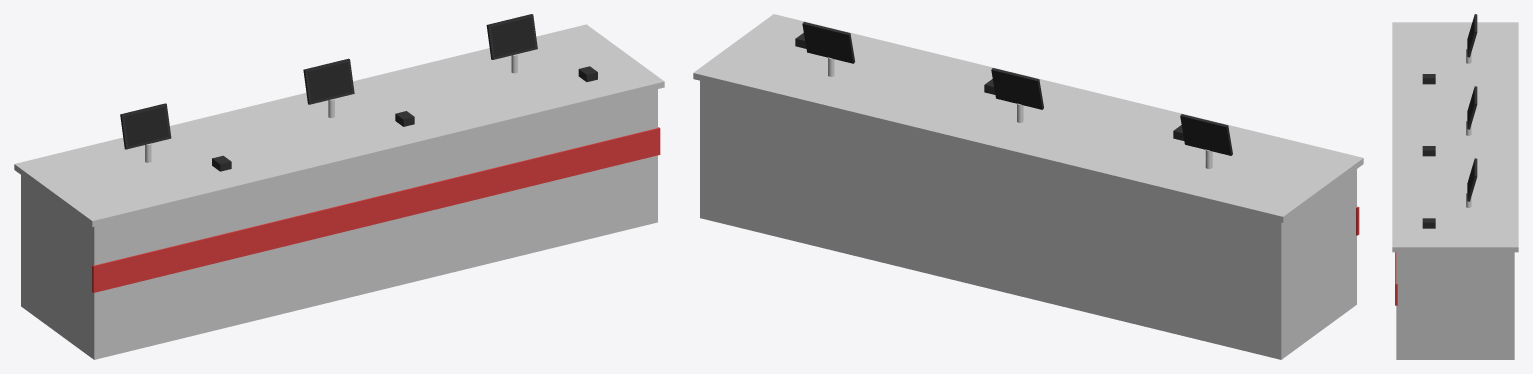
The model's file is nintendo_checkout.glb.
The picture shows the model from 3 angles, left to right: view 1: azimuth 30°, elevation 25°; view 2: azimuth 150°, elevation 25°; view 3: azimuth 270°, elevation 25°; orthographic projection. The views are drawn at different scales.
Parts seen in each view (by area): view 1: nintendo_checkout, screen.002, screen, screen.001; view 2: nintendo_checkout; view 3: nintendo_checkout, screen.001, screen.002, screen.
Boxes of the visible parts, bbox=[...] form: nintendo_checkout: bbox=[14, 14, 664, 359]; screen.002: bbox=[490, 17, 535, 56]; screen: bbox=[124, 107, 168, 146]; screen.001: bbox=[307, 62, 352, 101]; nintendo_checkout: bbox=[693, 14, 1363, 359]; nintendo_checkout: bbox=[1392, 14, 1518, 359]; screen.001: bbox=[1467, 89, 1474, 125]; screen.002: bbox=[1467, 161, 1474, 198]; screen: bbox=[1467, 17, 1474, 53].
Bounding box in the file's own units: 4.06 × 1.3 × 0.96.
